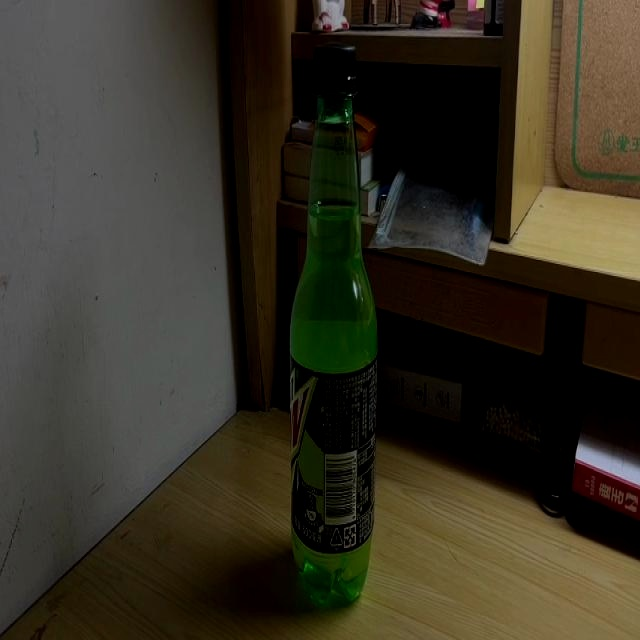Mountain-Dew: (290, 42, 377, 610)
